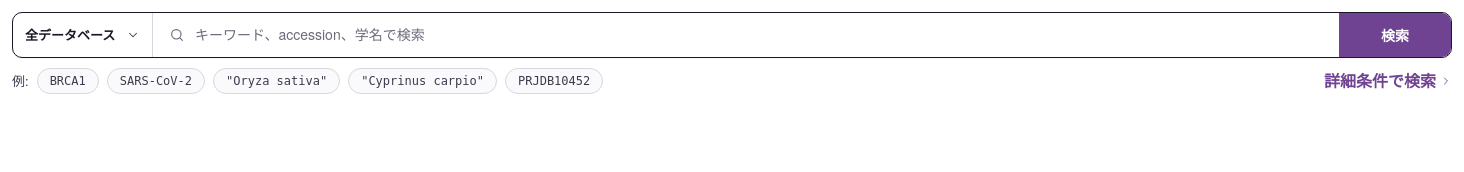
Test: HeroSection › HeroSection_exampleChipClick_populatesInput
The image size is (1464, 172).
Click the button "BRCA1" at (68, 81), box [37, 68, 99, 94]
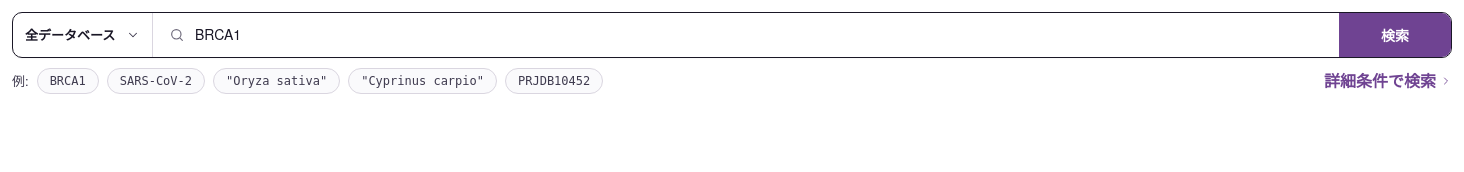
Check: the field holds "BRCA1", box [195, 14, 1323, 55]
